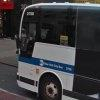Bus: (13, 3, 94, 99)
